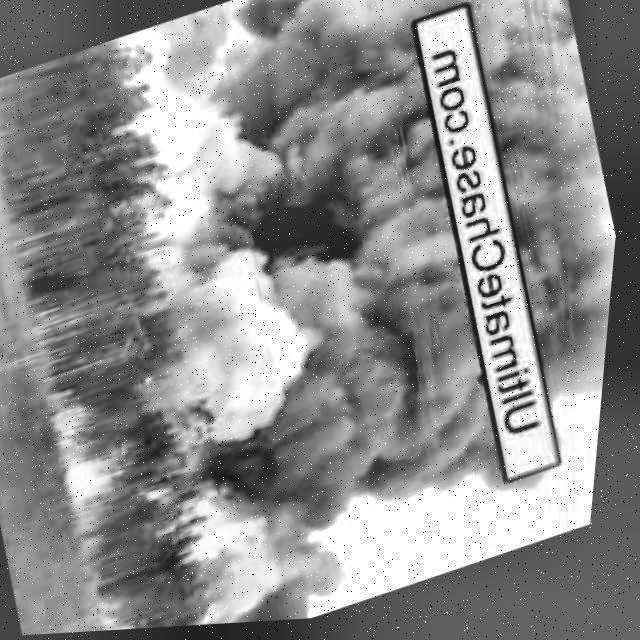Fire: (168, 458, 304, 572), (68, 445, 133, 507), (58, 397, 96, 435), (109, 610, 149, 633)
Smoke: (79, 0, 554, 586), (416, 0, 640, 422)
